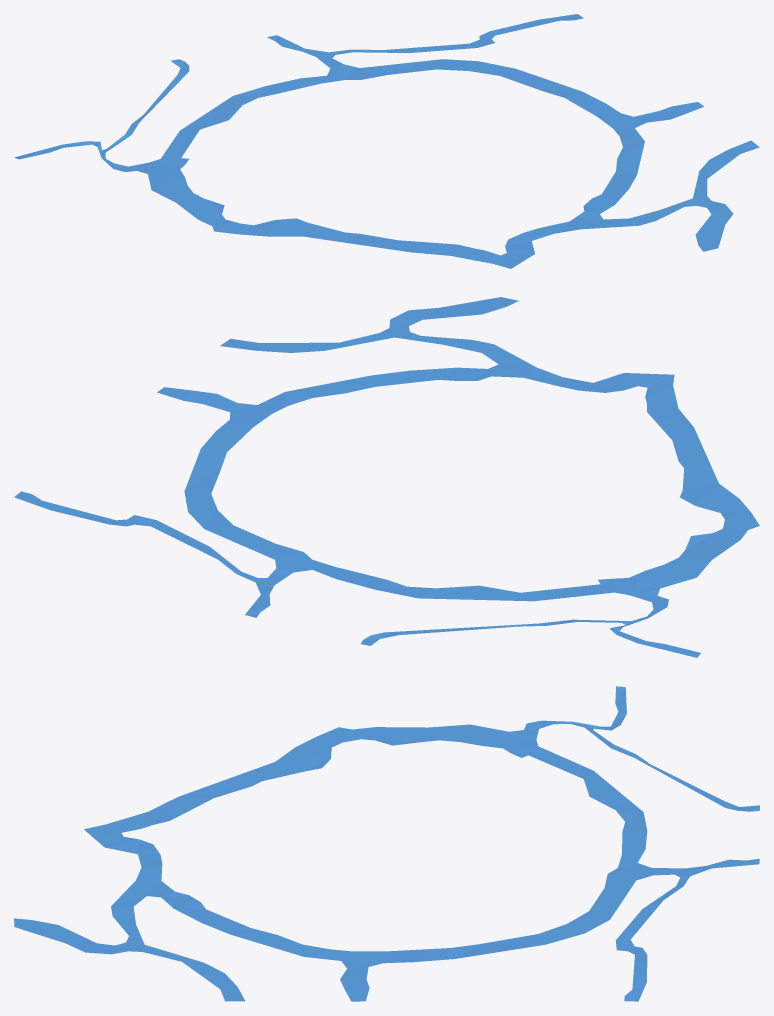
The model's file is Sea.fbx.
3 views of the same model, one above another, from view 1: azimuth 30°, elevation 25°; view 2: azimuth 150°, elevation 25°; view 3: azimuth 270°, elevation 25° (orthographic). The views are drawn at different scales.
Parts seen in each view (by area): view 1: Sea; view 2: Sea; view 3: Sea.
Part boxes in pixels (x1,y1,x2,y2): Sea: [14, 14, 759, 268]; Sea: [14, 297, 759, 657]; Sea: [14, 686, 759, 1001].
Bounding box in the file's own units: 8165 × 22.98 × 8169.
